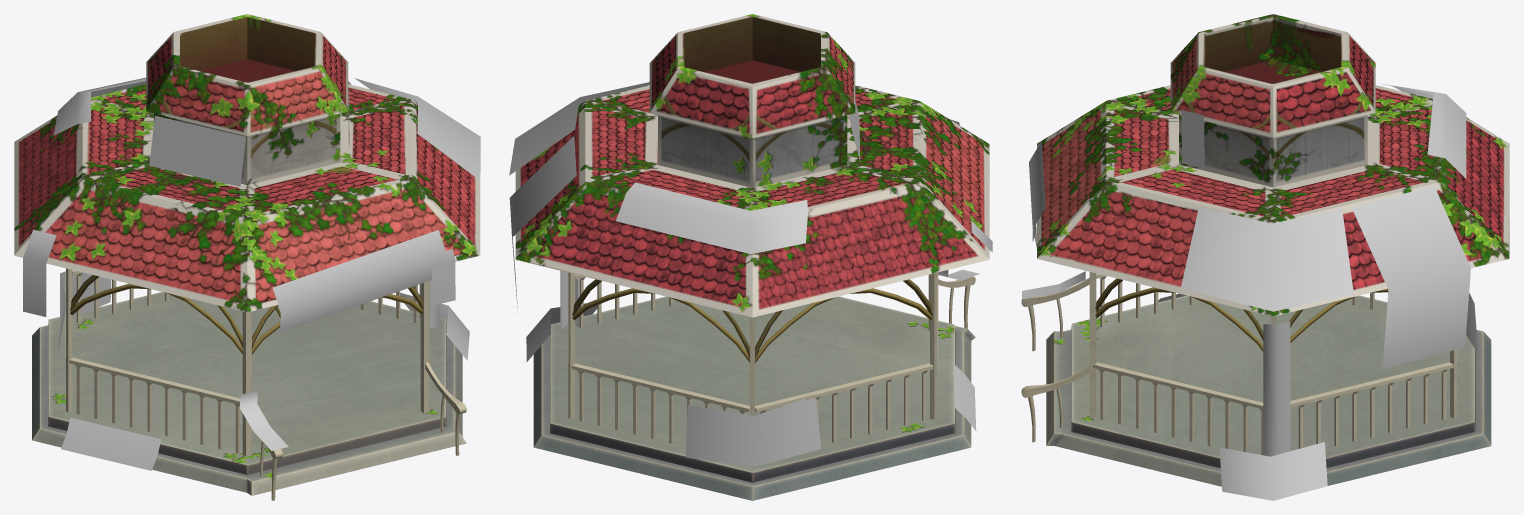
The model's file is SM_Gazebo.fbx.
3 views of the same model, side by side, from view 1: azimuth 30°, elevation 25°; view 2: azimuth 150°, elevation 25°; view 3: azimuth 270°, elevation 25° (orthographic).
Parts seen in each view (by area): view 1: SM_Gazebo_LOD0; view 2: SM_Gazebo_LOD0; view 3: SM_Gazebo_LOD0.
Boxes of the visible parts, bbox=[...] form: SM_Gazebo_LOD0: bbox=[14, 14, 480, 500]; SM_Gazebo_LOD0: bbox=[509, 14, 992, 500]; SM_Gazebo_LOD0: bbox=[1021, 14, 1509, 500].
Size of what is drawn, in the model's own units: 941 by 658 by 841.
